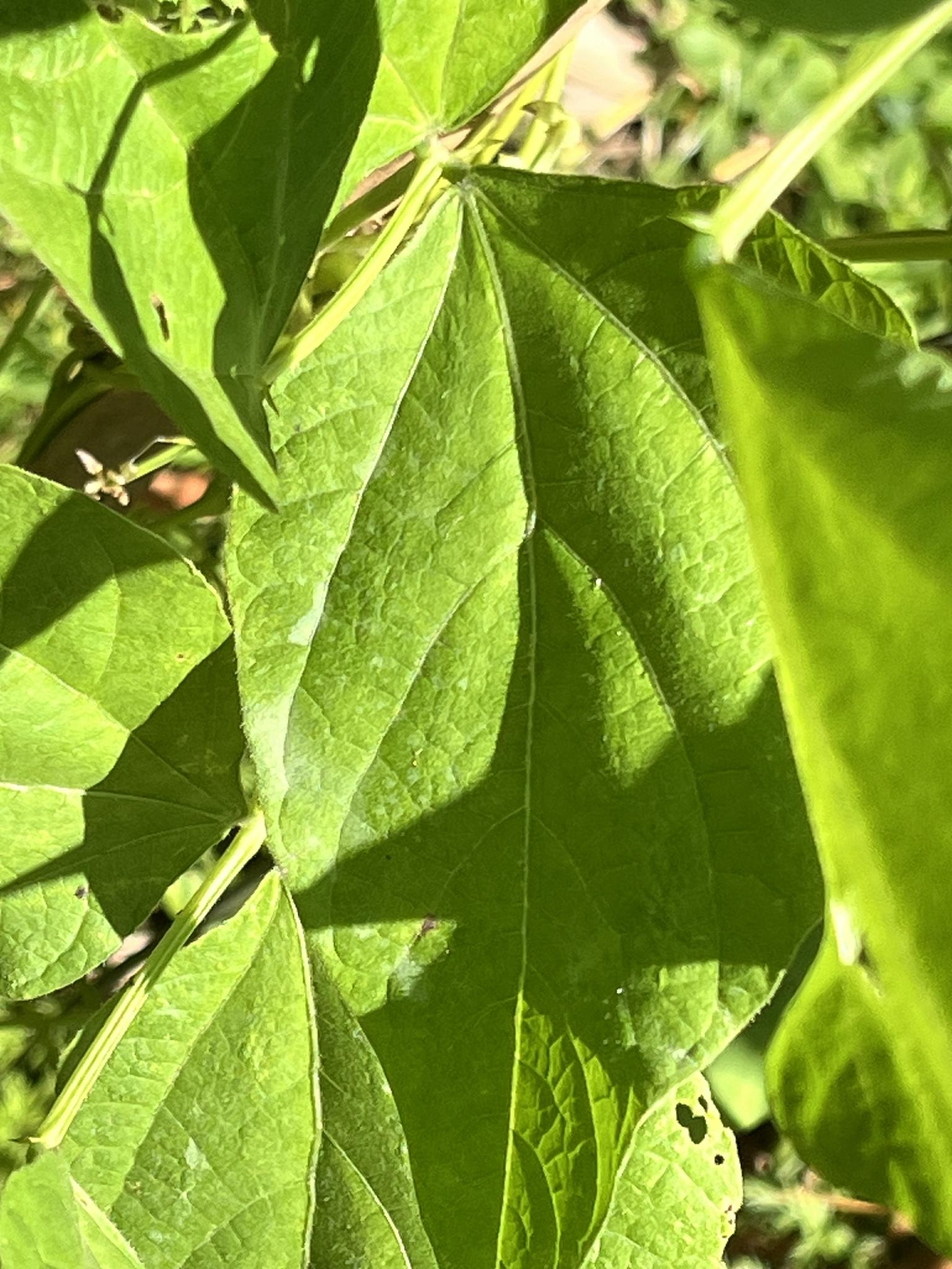embun tepung: (257, 690, 328, 843)
